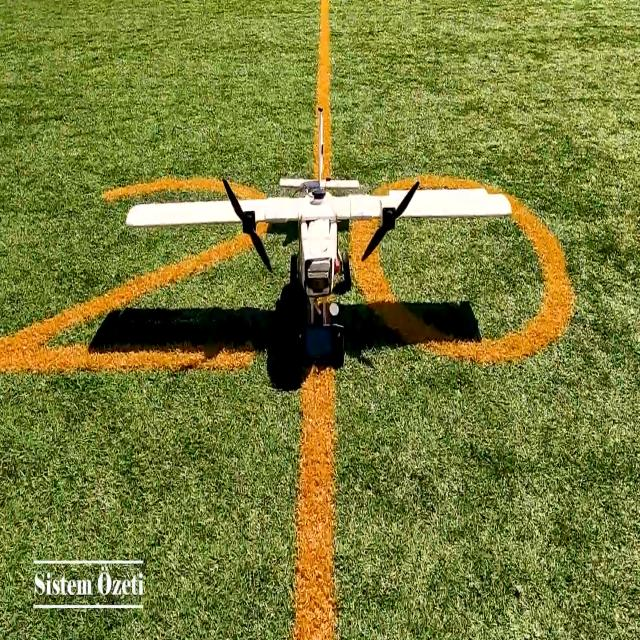iha: (125, 154, 513, 317)
